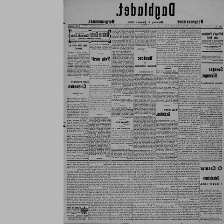news_paper: (63, 0, 223, 224)
